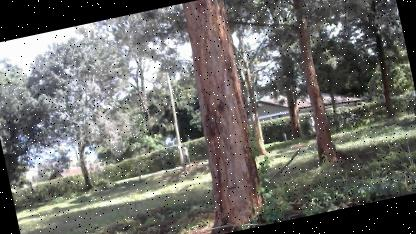tree: (161, 0, 279, 234), (10, 27, 154, 202), (276, 0, 351, 174)
